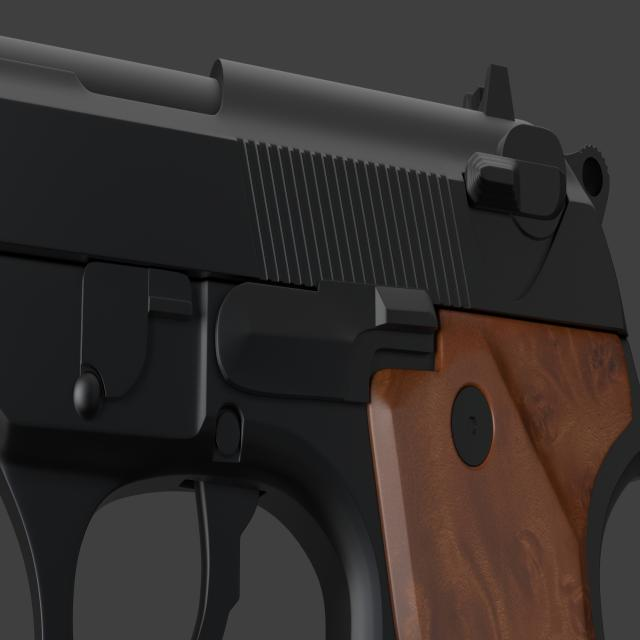Gun: (16, 12, 639, 640)
